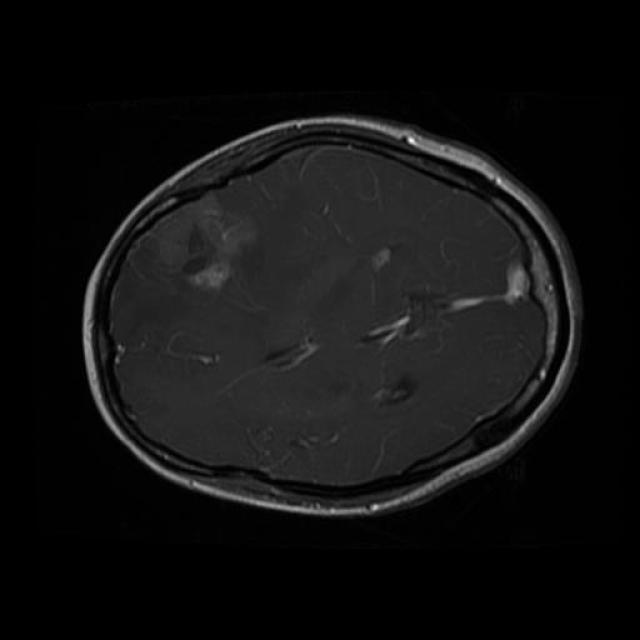Glioma: (157, 192, 255, 291)
